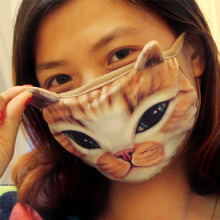face_mask: (32, 1, 196, 176)
